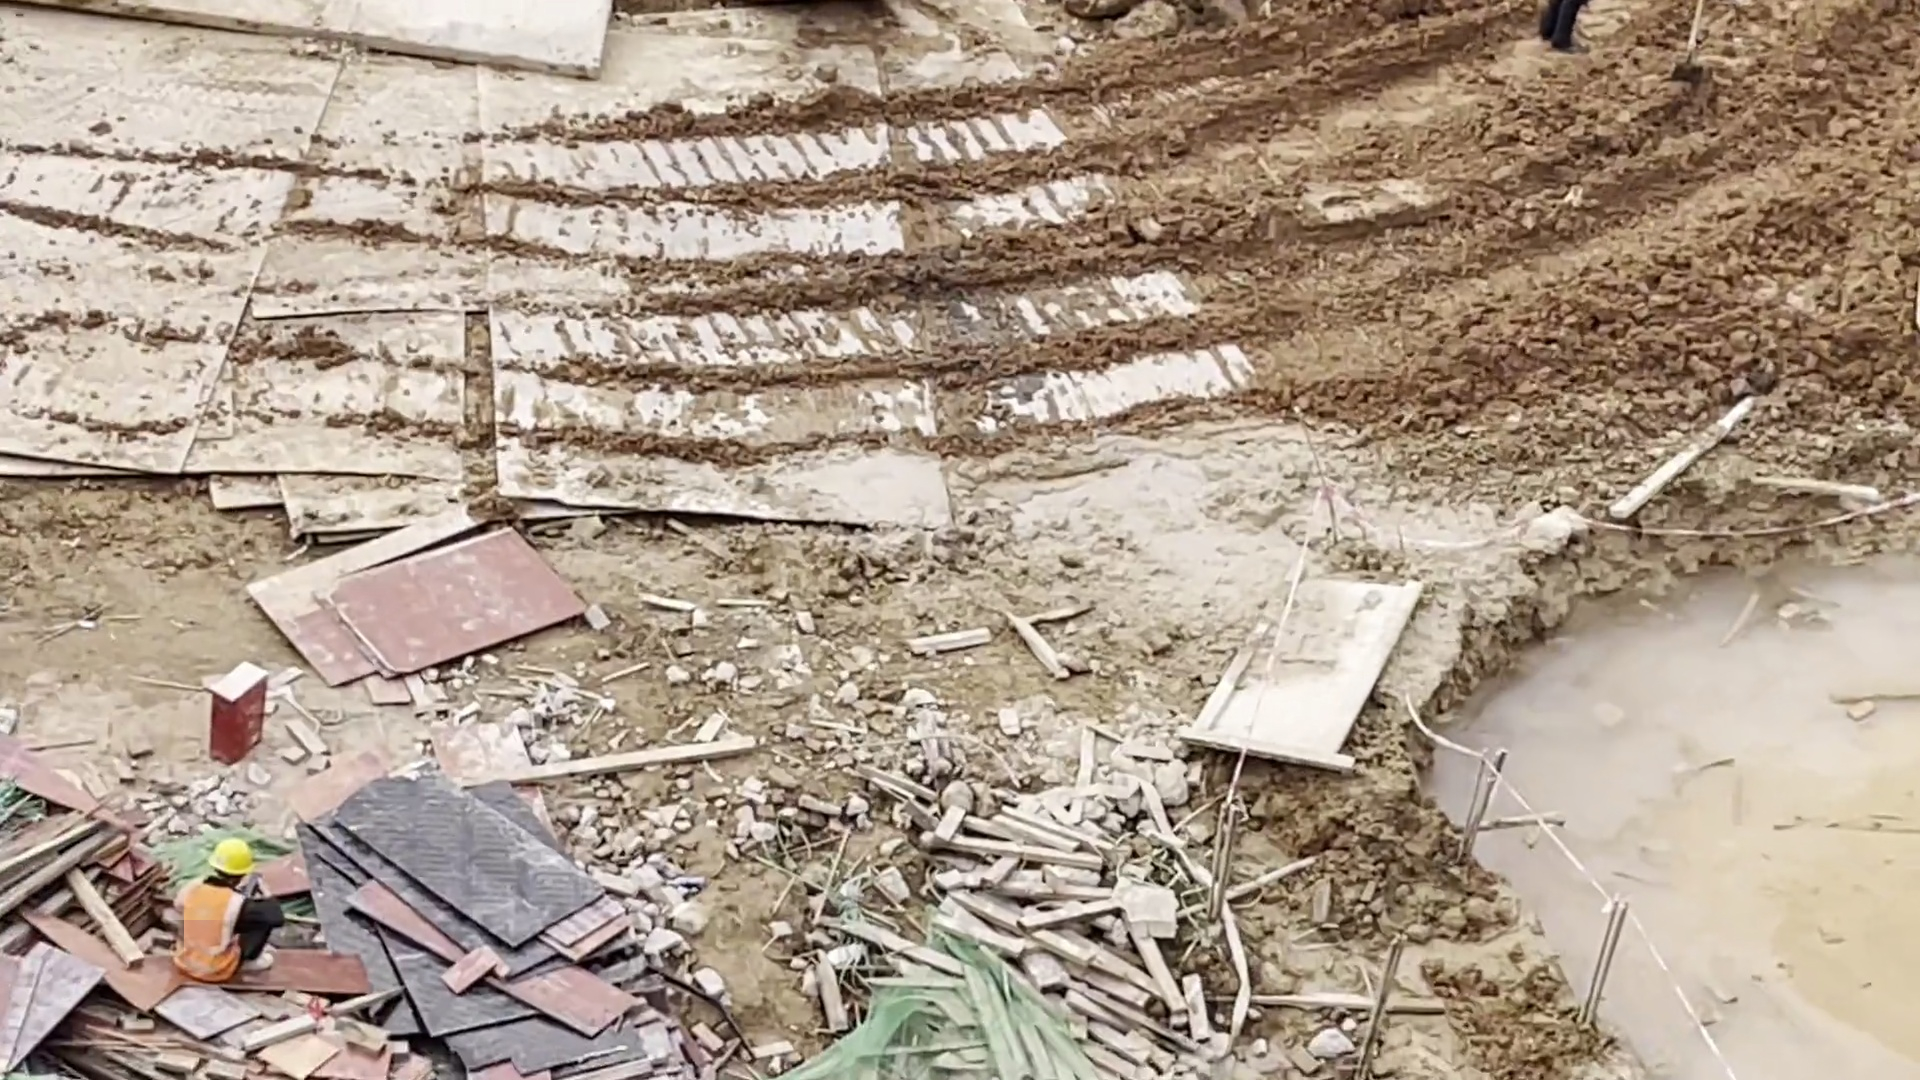board: (323, 769, 608, 1080)
helmet: (206, 842, 259, 877)
person: (166, 836, 282, 979)
vest: (179, 880, 246, 971)
